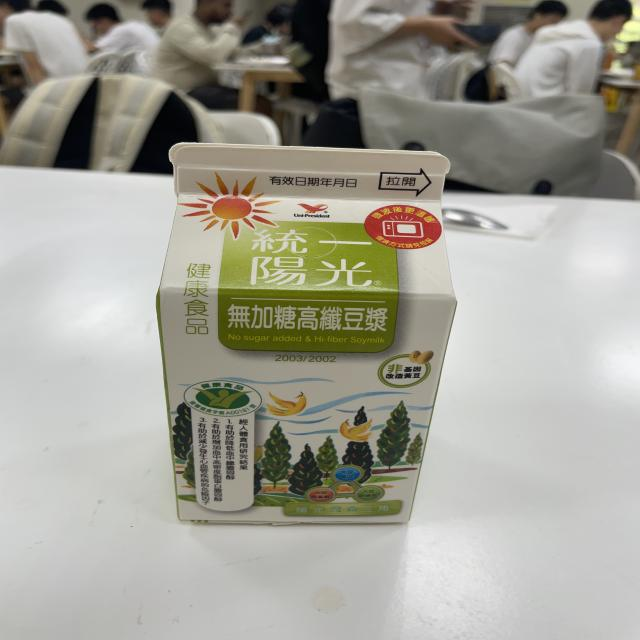TongYi_UnsweetenedHighFiberSoyMilk: (151, 135, 467, 534)
